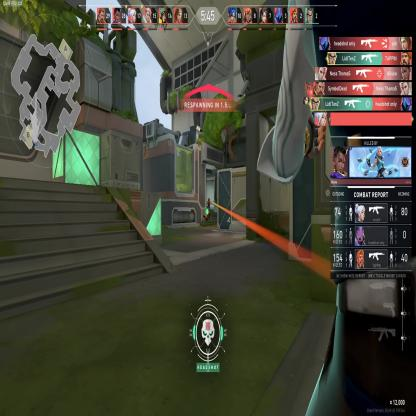enemy: (207, 195, 210, 211)
